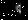person: (12, 3, 22, 17)
